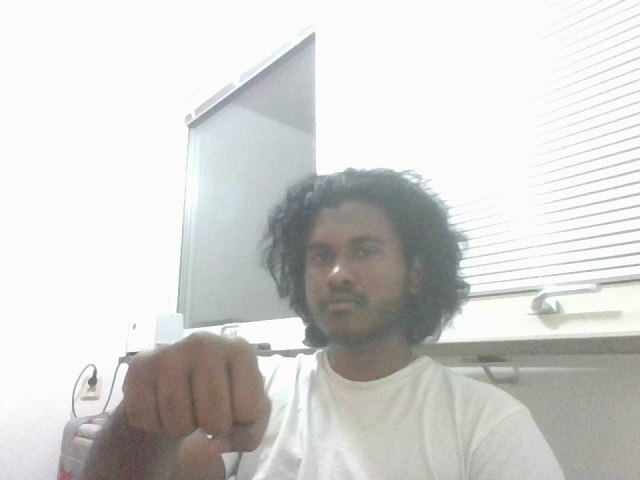Yes: (110, 332, 306, 480)
